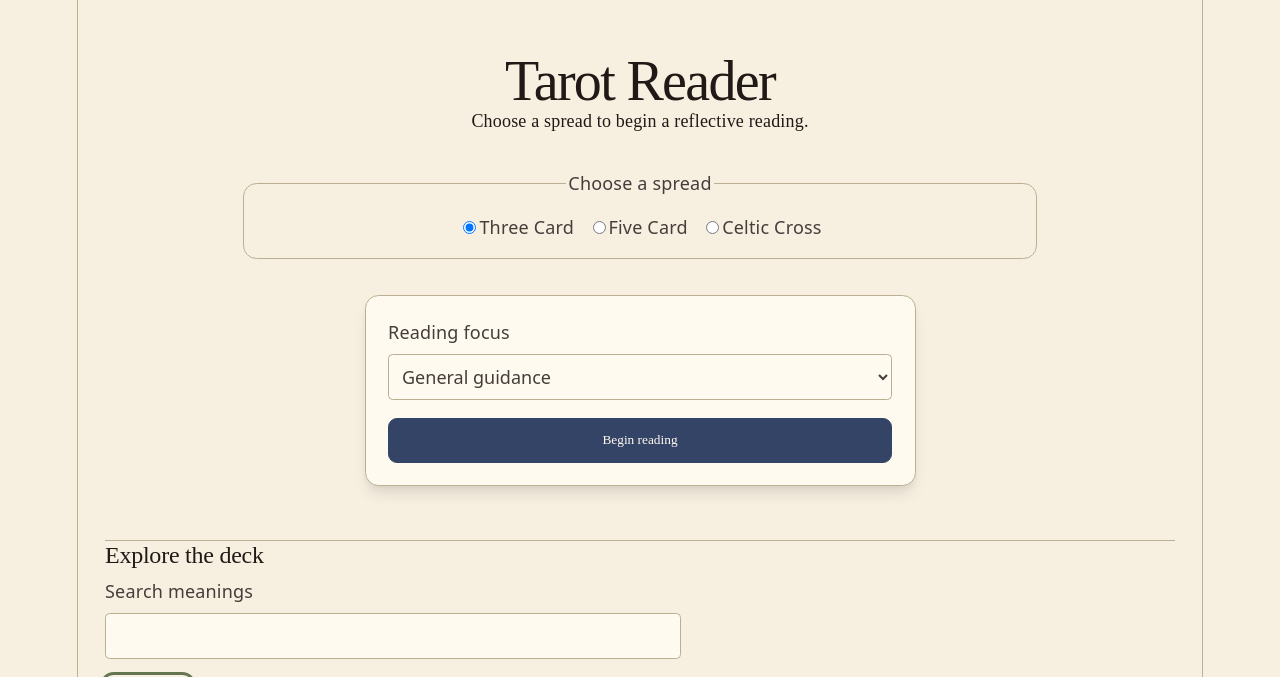
explains the numbered reading order for the selected spread
The image size is (1280, 677).
Click the radio button labelled "Celtic Cross". click: [713, 228]
box: [706, 221, 719, 234]
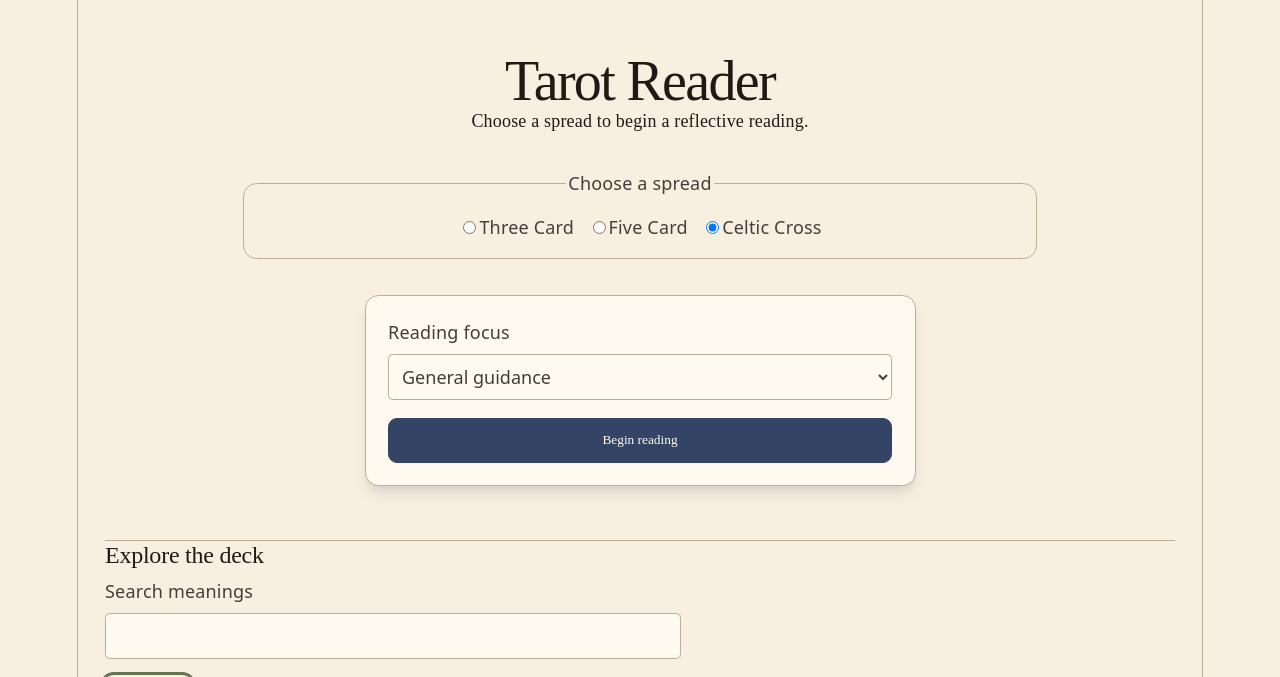
Click the button "Begin reading". click: [640, 440]
box: [388, 418, 892, 463]
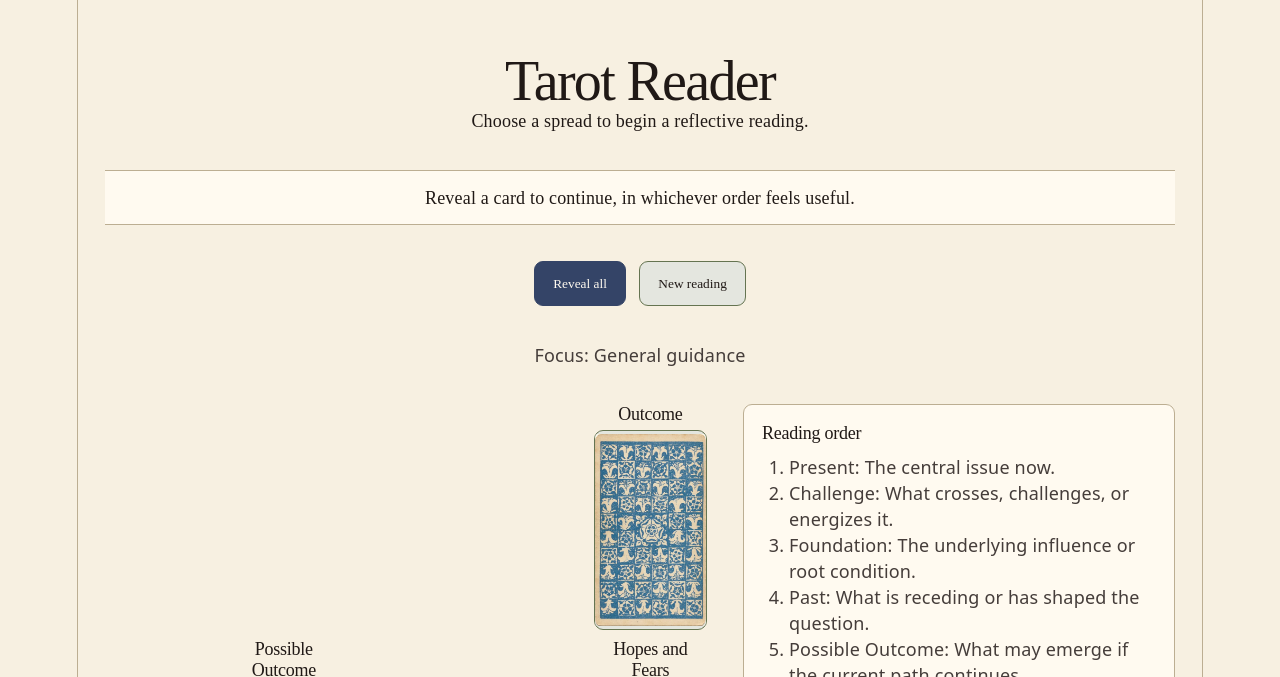
Now the list item "Foundation: The underlying influence or root condition." is shown, box [789, 532, 1156, 584]
